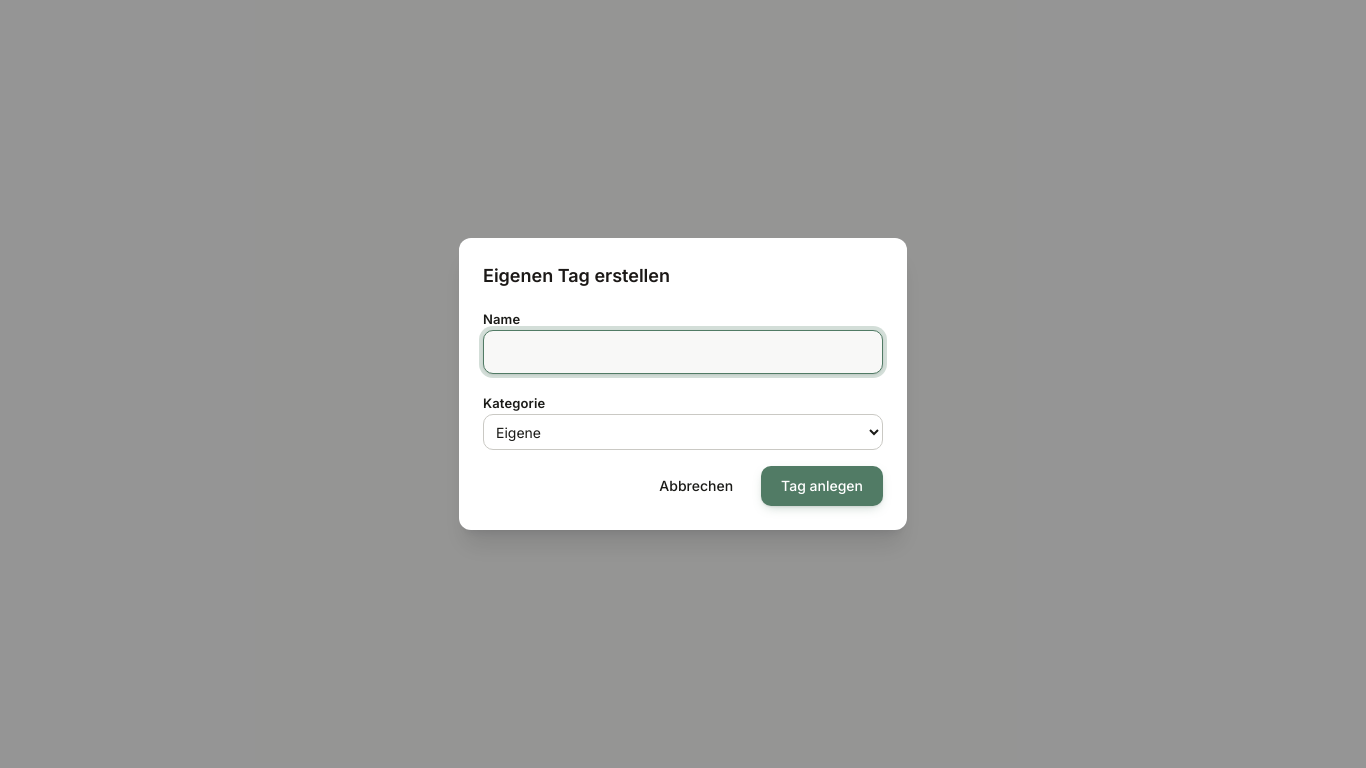
Test: CreateTagDialog › shows the localised errors:<code> copy on duplicate
The image size is (1366, 768).
Step 1. Type "Dup" into the field labelled "Name" → (683, 352), box [483,330,883,374]
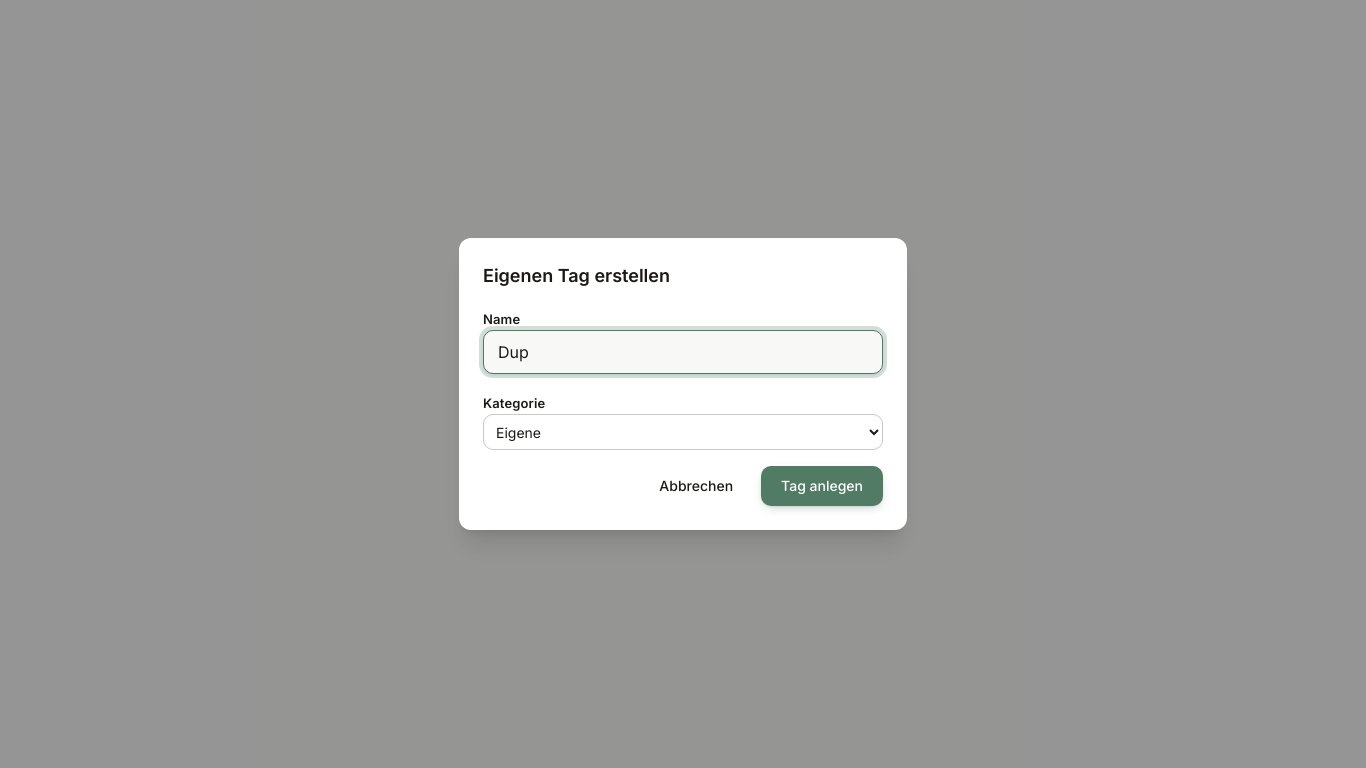
Step 2. Click the button "Tag anlegen" → (822, 486), box [761,466,883,506]
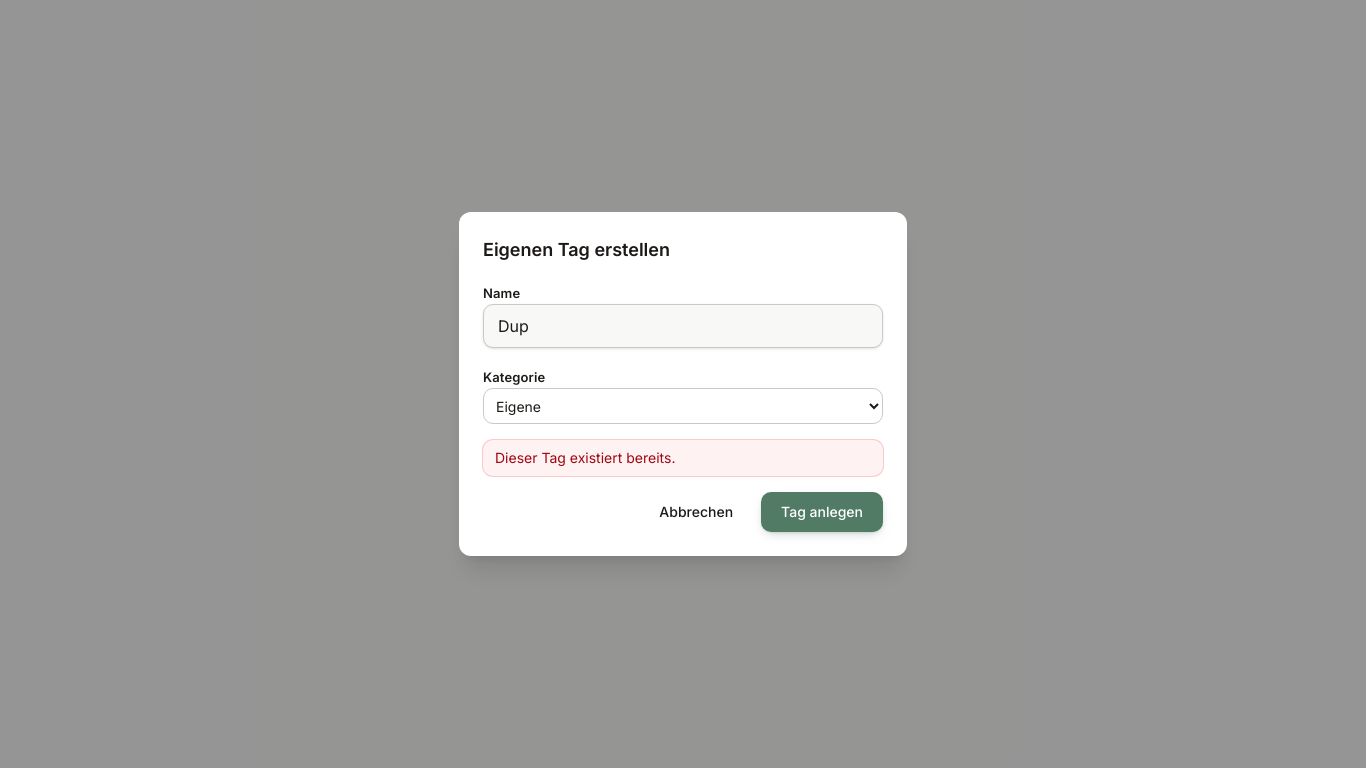
Expected: the message does not show "Tag already exists", [483,440,883,476]
Expected: the message reads "Dieser Tag existiert bereits.", [495,449,675,466]
